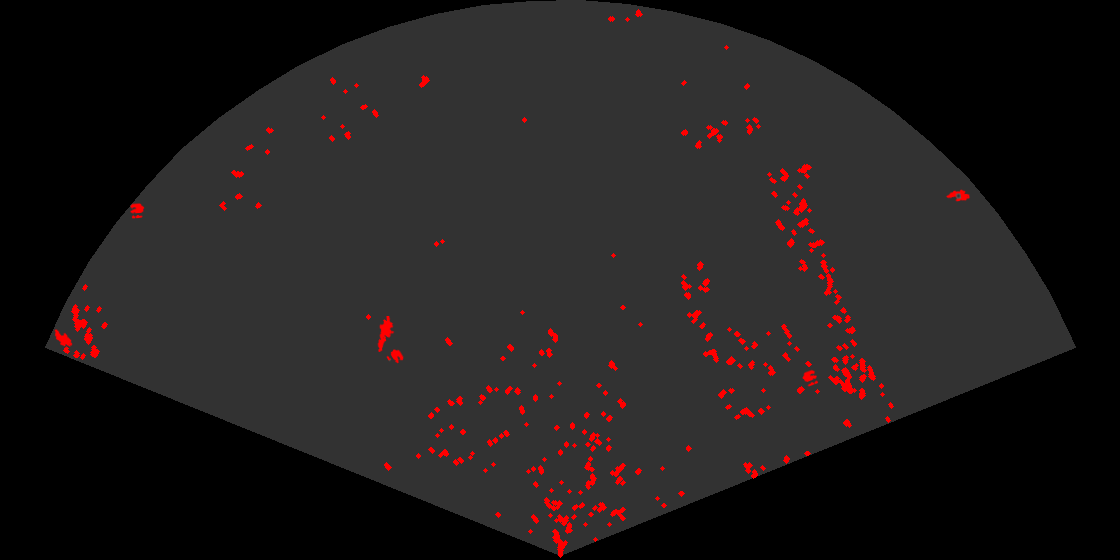AUV: (944, 188, 972, 203), (53, 328, 74, 348)
ball: (801, 368, 820, 388), (385, 348, 405, 365), (129, 202, 146, 220)
frogman: (376, 316, 396, 352)
